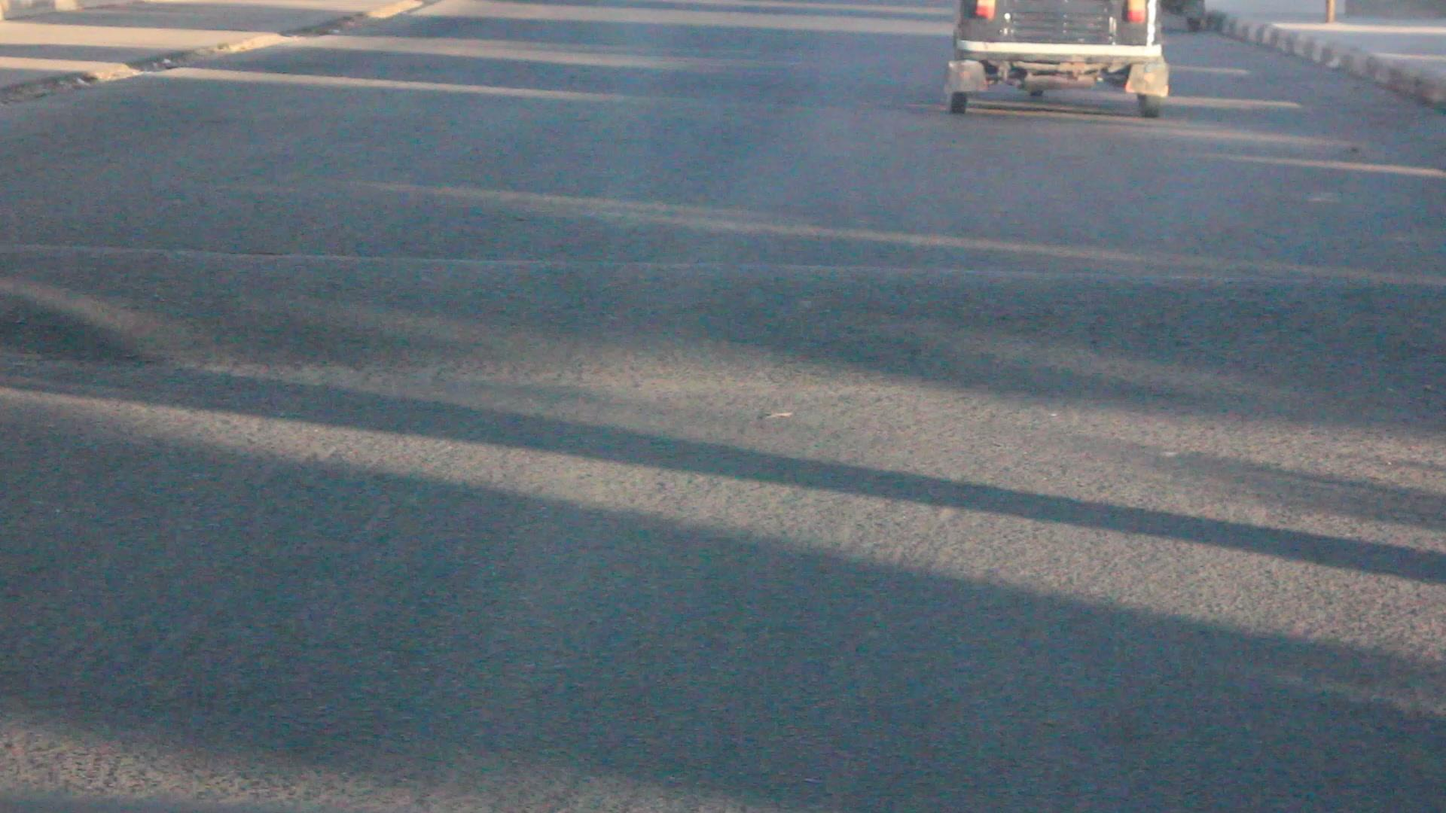Bump: (6, 233, 1446, 412)
